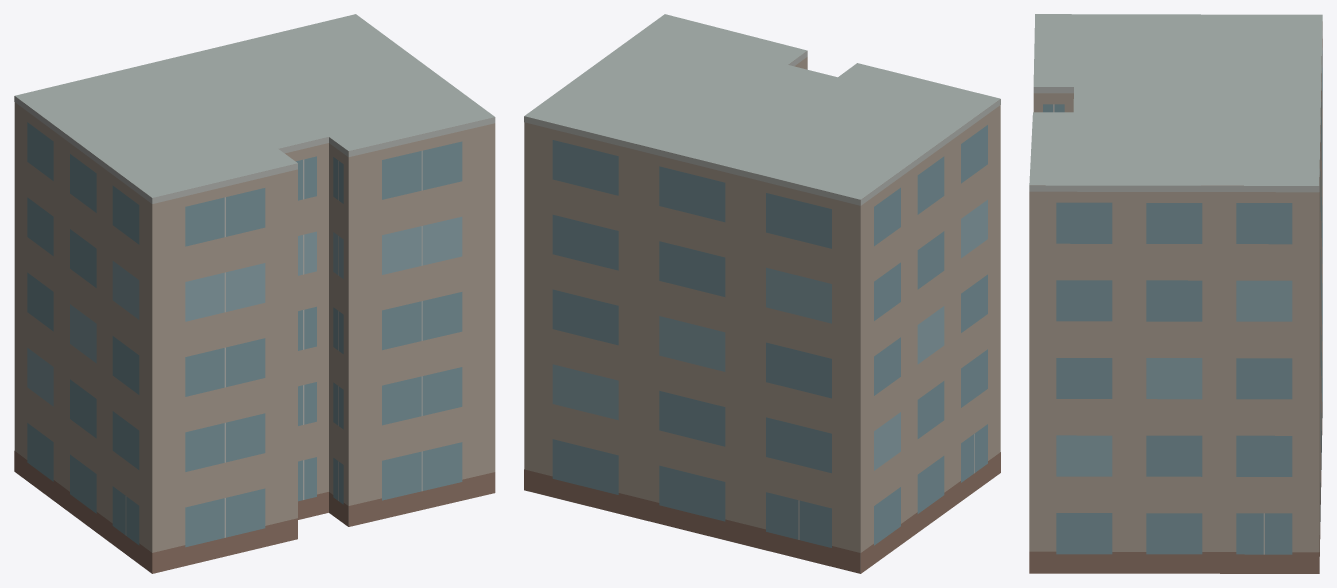
File: survey-upis-32994825.glb
The picture shows the model from 3 angles, left to right: view 1: azimuth 30°, elevation 25°; view 2: azimuth 150°, elevation 25°; view 3: azimuth 270°, elevation 25°; orthographic projection. The views are drawn at different scales.
Visible parts, largest first — view 1: survey-upis-32994825.tmp; view 2: survey-upis-32994825.tmp; view 3: survey-upis-32994825.tmp.
Part boxes in pixels (box(x1,y1,x2,y2)): survey-upis-32994825.tmp: box(14, 14, 495, 573); survey-upis-32994825.tmp: box(524, 14, 1000, 573); survey-upis-32994825.tmp: box(1029, 14, 1322, 573).
Size of the model in its own units: 14.26 by 15 by 10.29.
